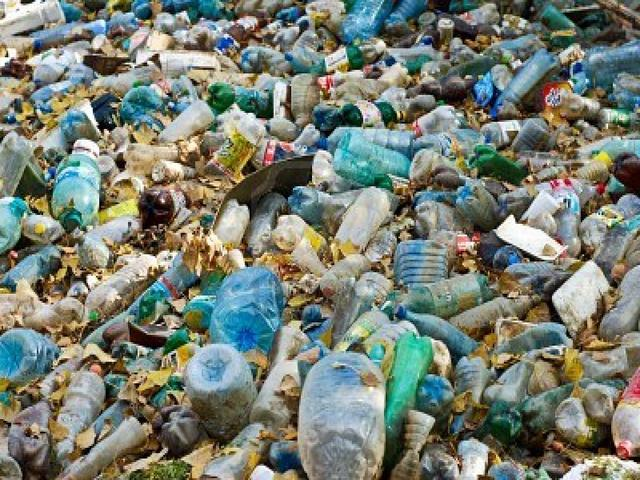garbage: (12, 11, 630, 466)
